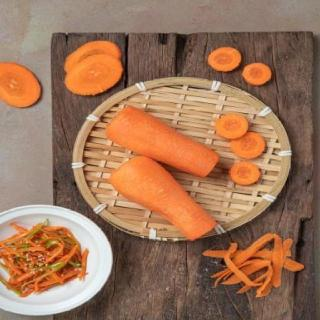carrot: (106, 154, 226, 242), (102, 100, 226, 182)
